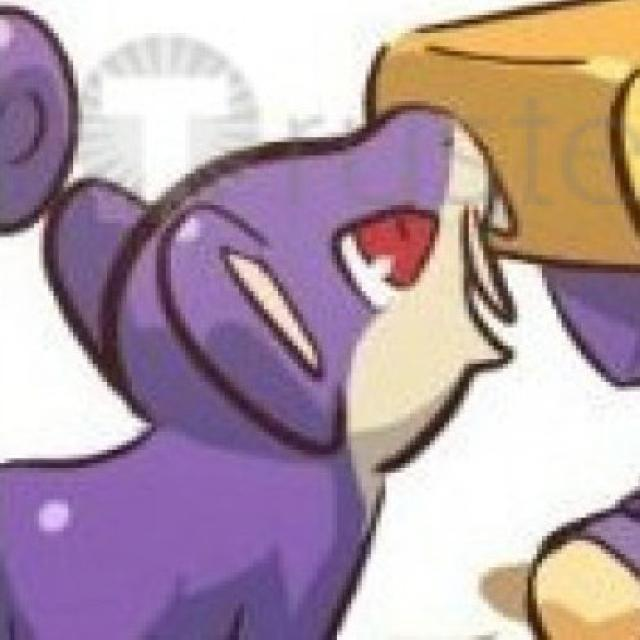Rattata: (42, 103, 512, 611)
